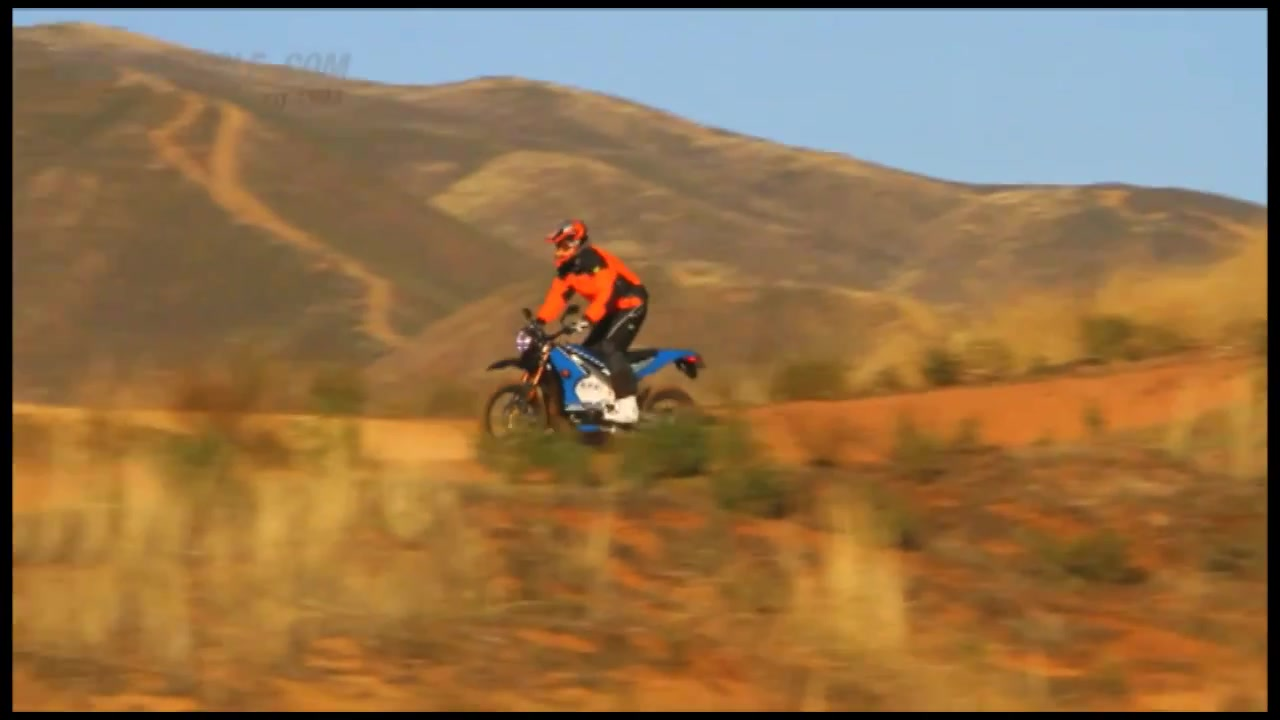motorbike: (477, 305, 719, 459)
